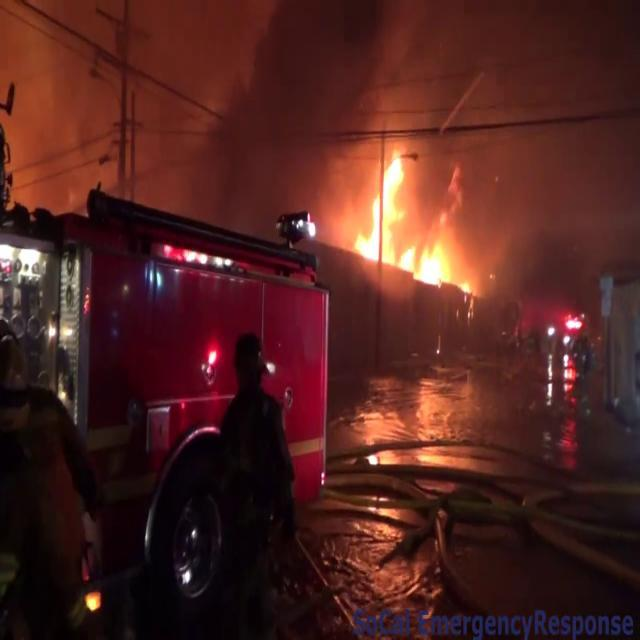Fire: (352, 144, 472, 286)
Smoke: (2, 0, 600, 186)
